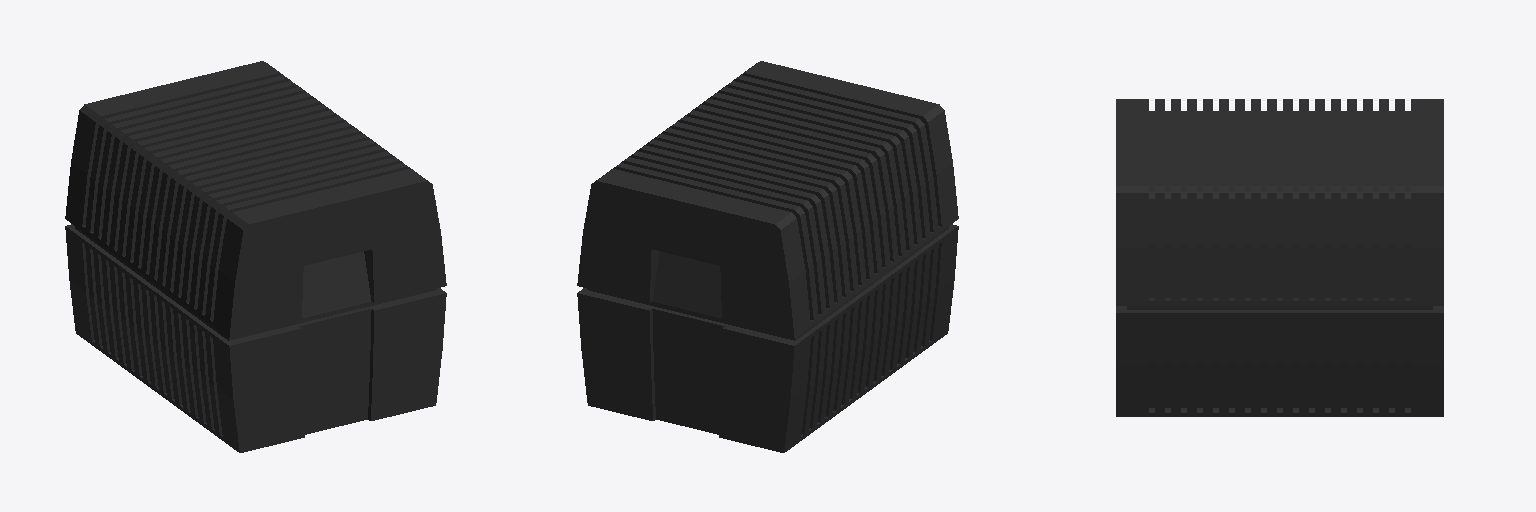
The picture shows the model from 3 angles: view 1: azimuth 30°, elevation 25°; view 2: azimuth 150°, elevation 25°; view 3: azimuth 270°, elevation 25°; orthographic projection.
Parts seen in each view (by area): view 1: Humidifier; view 2: Humidifier; view 3: Humidifier.
Part boxes in pixels (x1,y1,x2,y2): Humidifier: (65, 61, 446, 452); Humidifier: (577, 61, 958, 452); Humidifier: (1116, 99, 1443, 416).
Size of the model in its own units: 83.51 by 83.27 by 109.
1 materials, 1 textured.